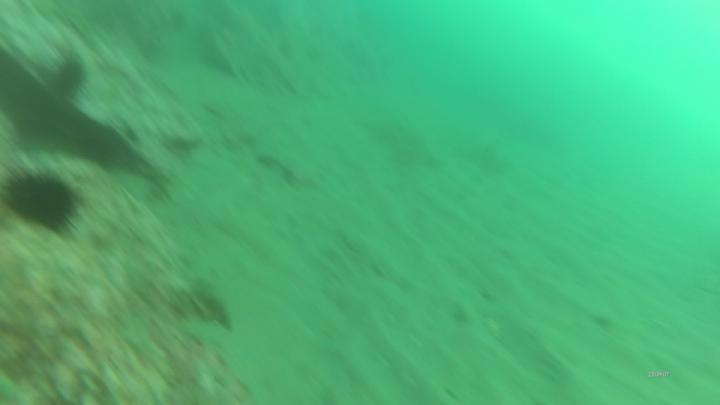echinus: (1, 158, 86, 237), (49, 51, 96, 100)
